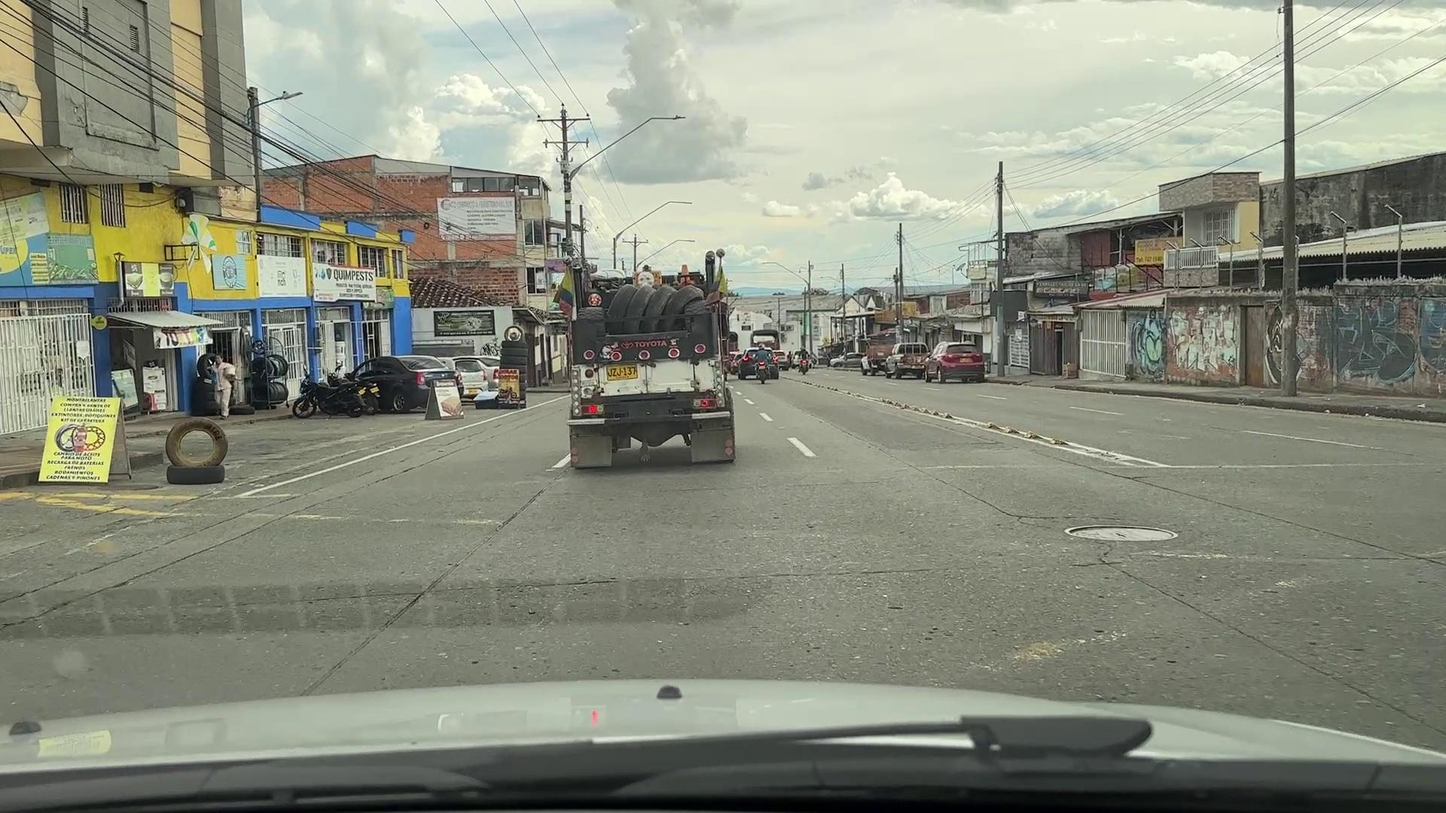registro: (1064, 524, 1178, 541), (96, 484, 158, 490)
